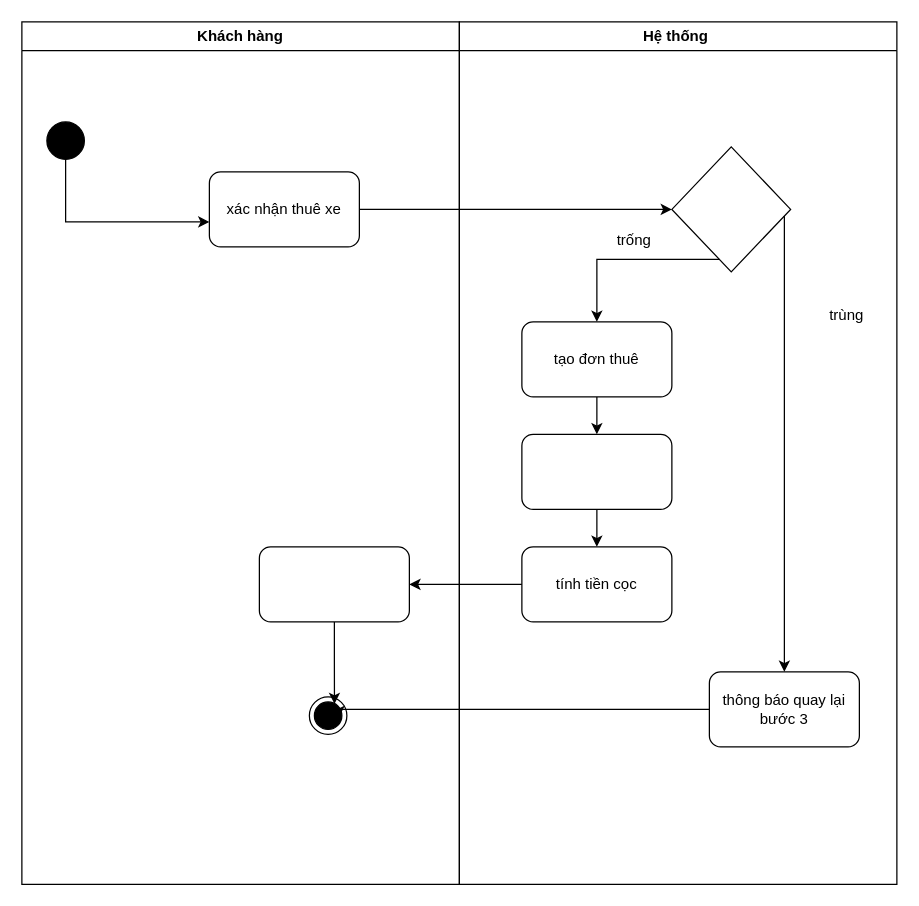
This 919x906 diagram has some shape labels left out. The centre of each missing label's shape, as x and y in pixels:
"cấp mã đơn" goes at pixel 596 471.
"hiển thị thành công" goes at pixel 333 584.
"kiểm tra xe có còn trống?" goes at pixel 731 209.
